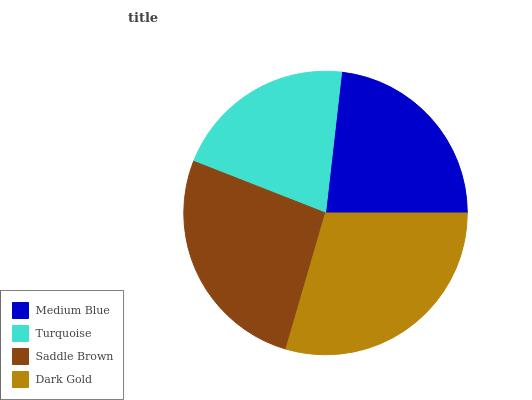legend: (0, 292, 123, 400)
sector: (181, 159, 325, 348), (287, 212, 466, 357), (193, 69, 342, 213), (327, 71, 469, 214)
